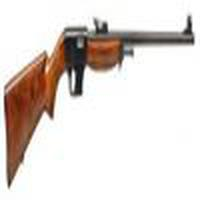gun: (3, 20, 198, 176)
